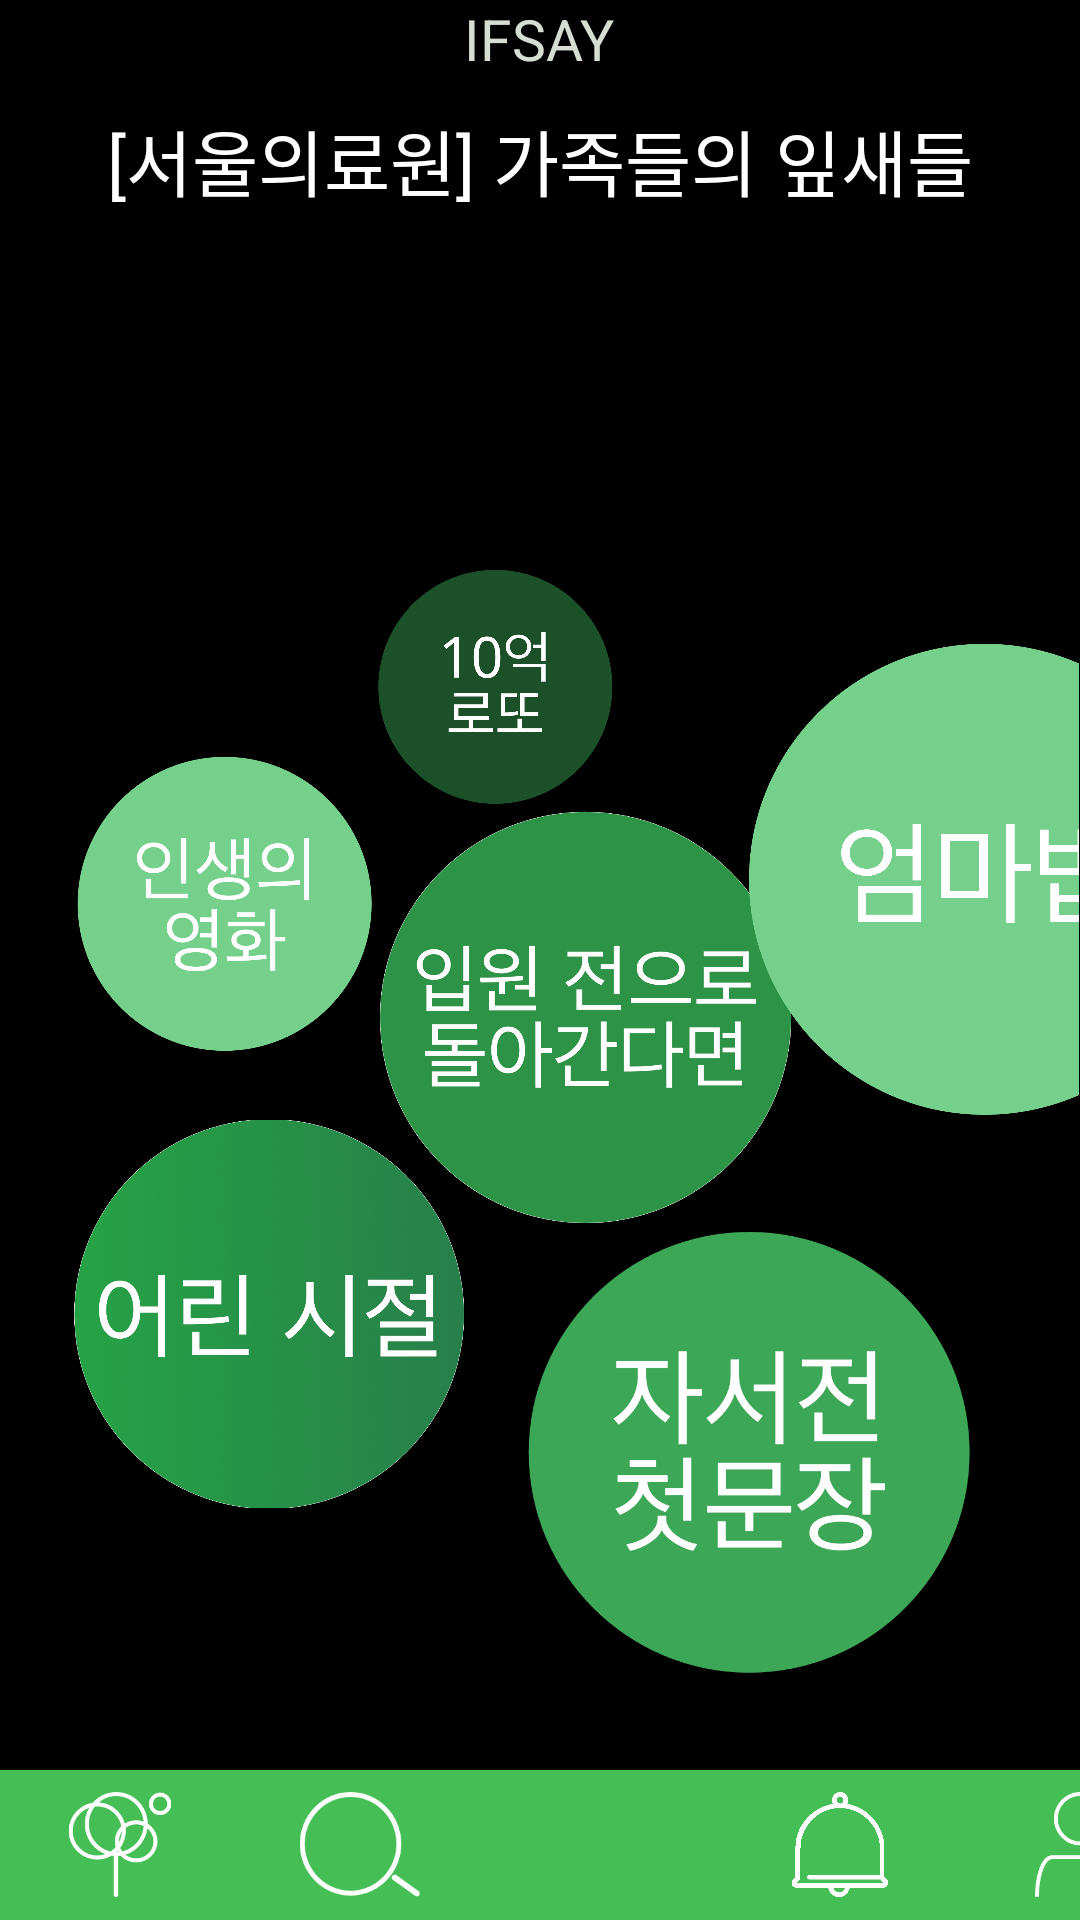

Named icons in this screenshot (1080*1920) and their bounding boxes, bbox(x1, y1, x2, y2):
alarm: bbox(792, 1792, 888, 1897)
search: bbox(300, 1792, 420, 1897)
tree: bbox(69, 1792, 171, 1897)
